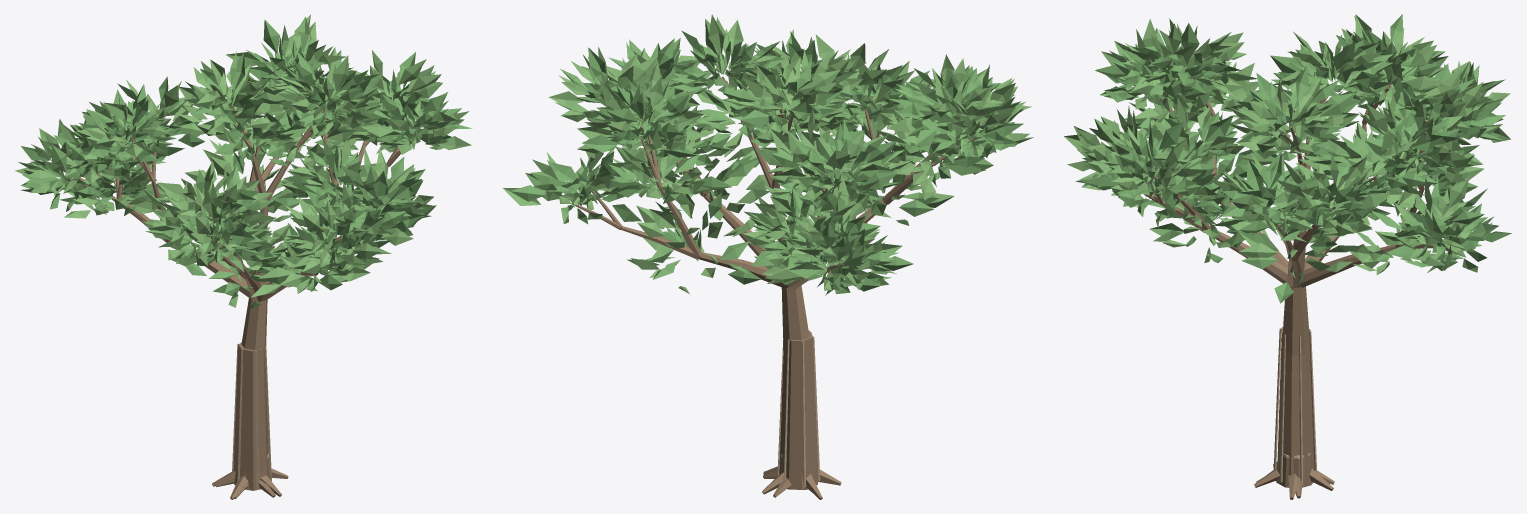
Rendered from plant-kouzo-a.glb.
The picture shows the model from 3 angles, left to right: view 1: azimuth 30°, elevation 25°; view 2: azimuth 150°, elevation 25°; view 3: azimuth 270°, elevation 25°; orthographic projection. The views are drawn at different scales.
Parts seen in each view (by area): view 1: plant-kouzo-a_standing_kouzoLeaf, plant-kouzo-a_standing_leafA, plant-kouzo-a_standing_bark, plant-kouzo-a_standing_barkLight; view 2: plant-kouzo-a_standing_kouzoLeaf, plant-kouzo-a_standing_leafA, plant-kouzo-a_standing_bark, plant-kouzo-a_standing_barkLight, plant-kouzo-a_stump_bark; view 3: plant-kouzo-a_standing_kouzoLeaf, plant-kouzo-a_standing_leafA, plant-kouzo-a_standing_bark, plant-kouzo-a_standing_barkLight, plant-kouzo-a_stump_bark.
Boxes of the visible parts, x1,y1,x2,y2 form: plant-kouzo-a_standing_kouzoLeaf: (15, 14, 471, 307); plant-kouzo-a_standing_leafA: (20, 19, 472, 308); plant-kouzo-a_standing_bark: (69, 94, 416, 499); plant-kouzo-a_standing_barkLight: (232, 344, 271, 487); plant-kouzo-a_standing_kouzoLeaf: (503, 14, 1033, 293); plant-kouzo-a_standing_leafA: (510, 19, 1026, 295); plant-kouzo-a_standing_bark: (574, 76, 976, 499); plant-kouzo-a_standing_barkLight: (777, 330, 820, 487); plant-kouzo-a_stump_bark: (763, 456, 834, 497); plant-kouzo-a_standing_kouzoLeaf: (1064, 14, 1510, 278); plant-kouzo-a_standing_leafA: (1073, 14, 1511, 303); plant-kouzo-a_standing_bark: (1144, 76, 1448, 499); plant-kouzo-a_standing_barkLight: (1273, 328, 1317, 483); plant-kouzo-a_stump_bark: (1256, 453, 1334, 498).
Bounding box in the file's own units: 5.34 × 5.82 × 5.27.
